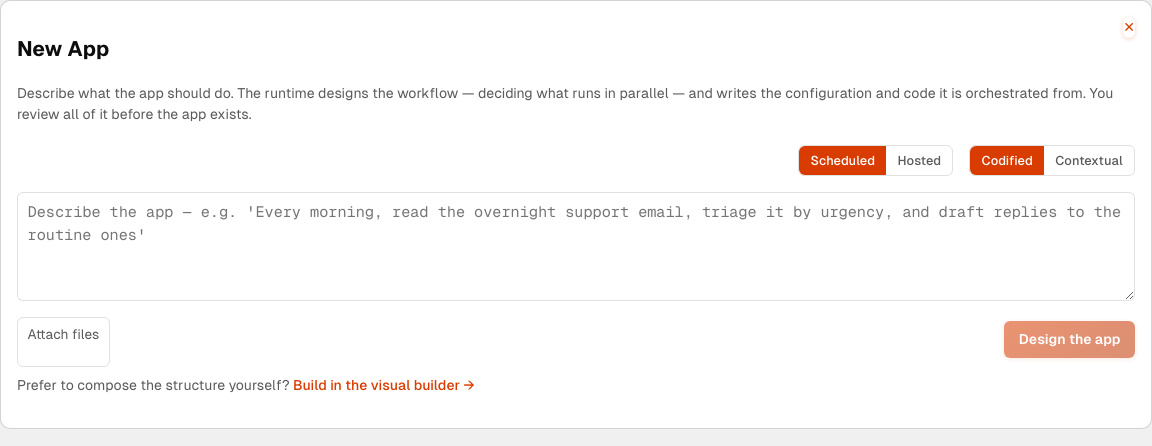
Scenario: the compose surface (real NewAppForm) › the design button stays disabled until there is a prompt
The width and height of the screenshot is (1152, 446).
Expected: the button with test id "new-app-derive" is disabled, [1004,321,1135,358]
Replace the text in the 1st text box with test id "new-app-prompt" with "triage email" at (576,247), box [17,192,1135,301]
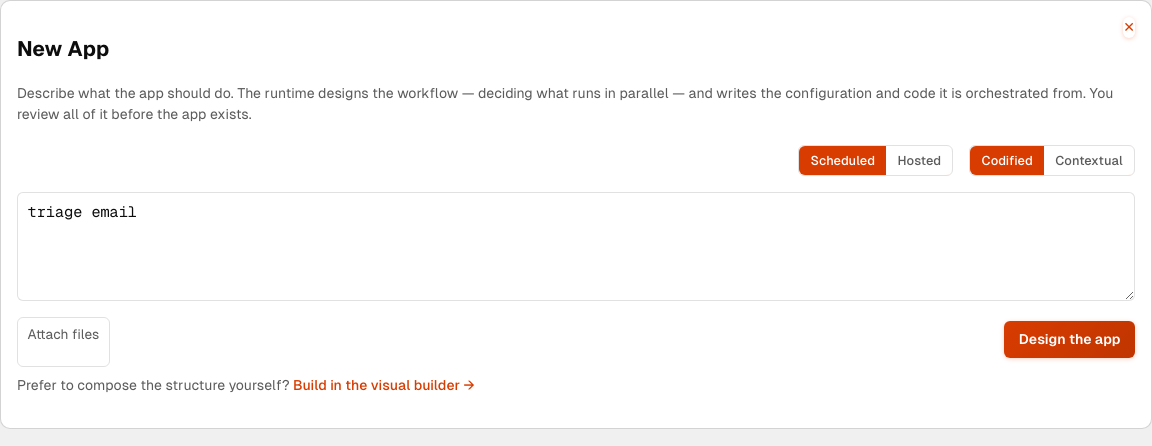
Expected: the button with test id "new-app-derive" is enabled, [1004,321,1135,358]
